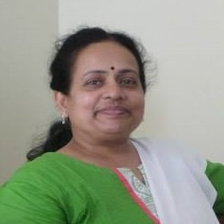no_mask: (74, 47, 145, 136)
